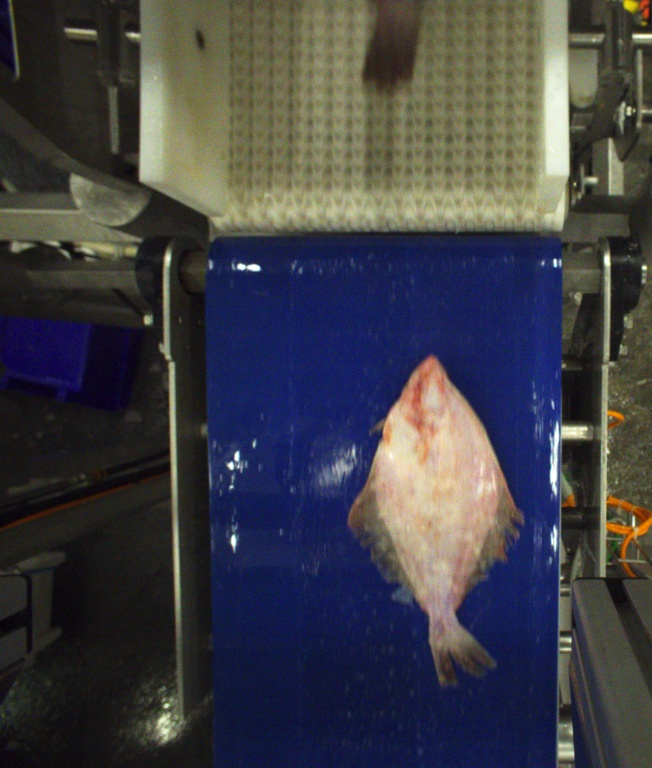PLE: (349, 355, 522, 689)
